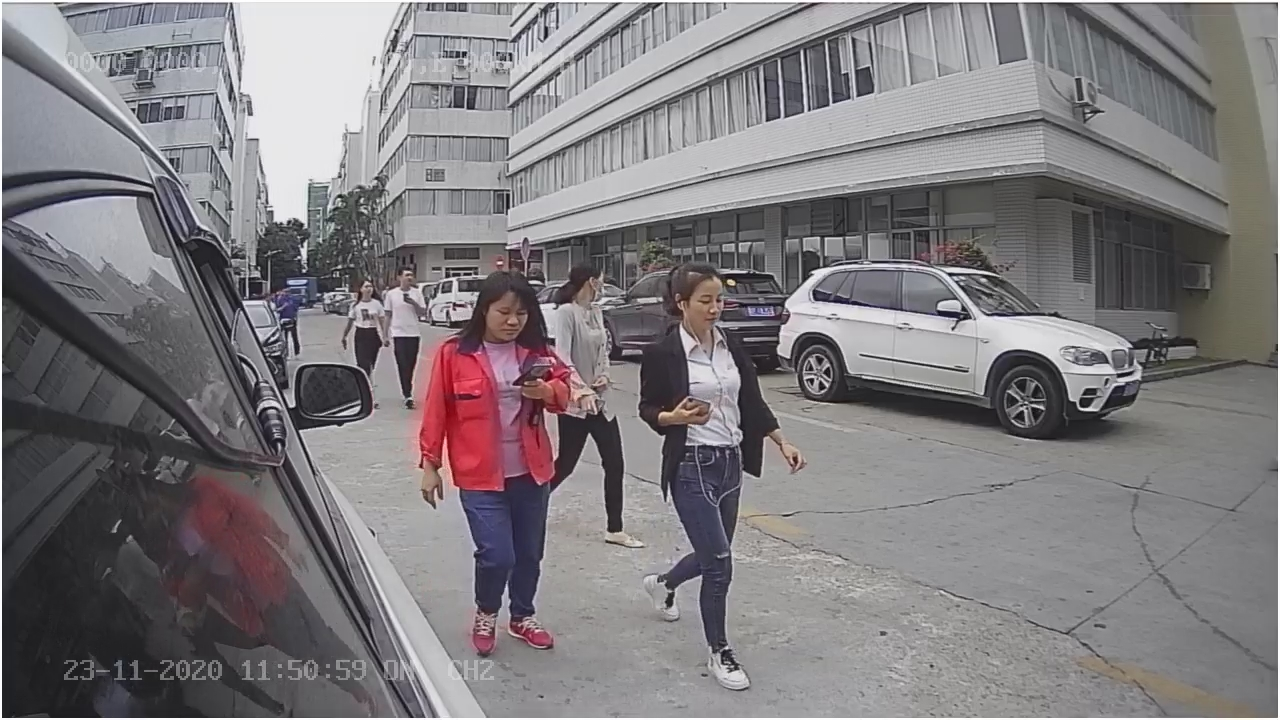person: (635, 253, 810, 694), (417, 256, 564, 652)
